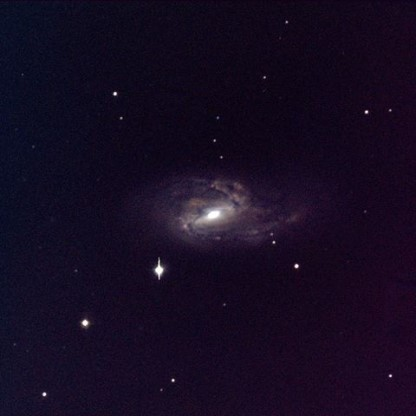Messier 66: (118, 164, 327, 295)
